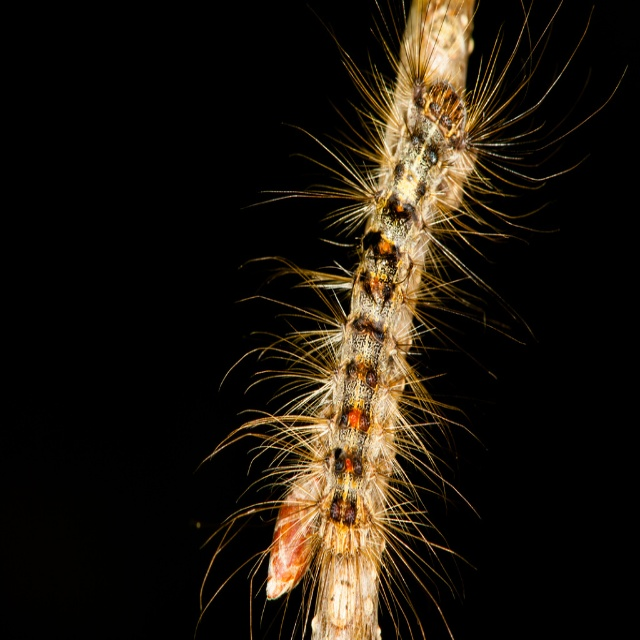Caterpillar: (195, 0, 635, 638)
